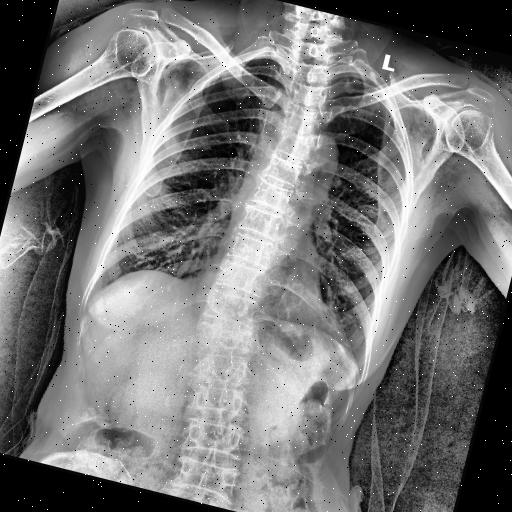0- Aortic enlargement: (283, 125, 346, 206), (290, 126, 346, 191), (290, 130, 343, 190)
